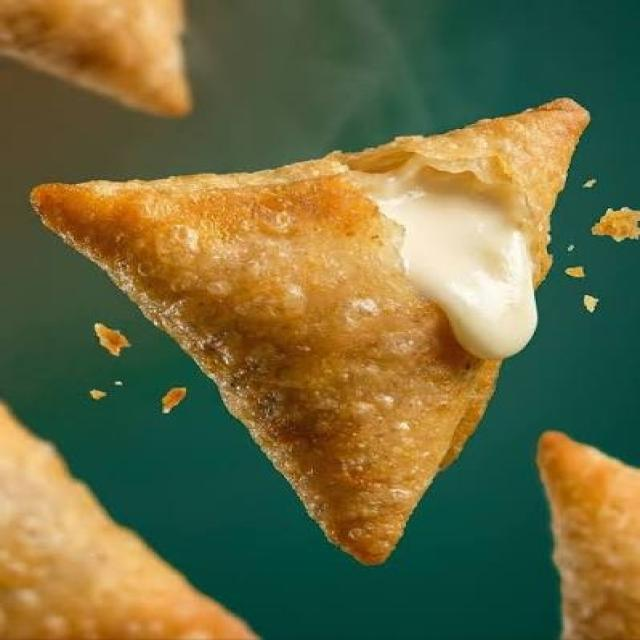Samboosa: (9, 38, 640, 583)
